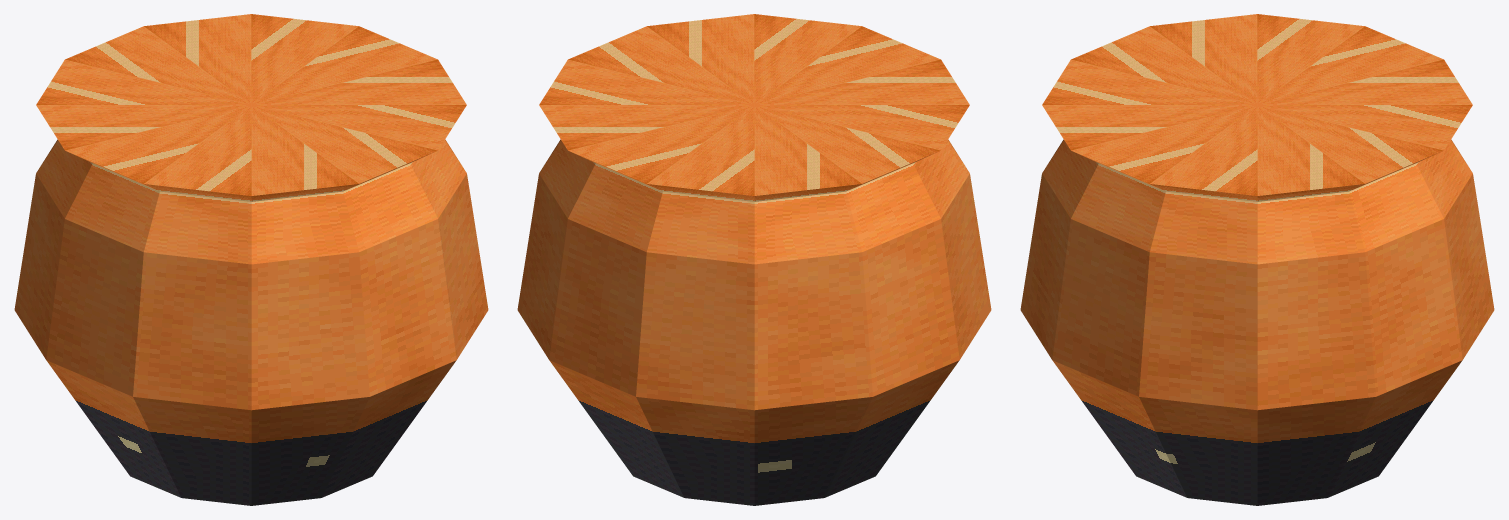
File: braseiro_quente.glb
The picture shows the model from 3 angles, left to right: view 1: azimuth 30°, elevation 25°; view 2: azimuth 150°, elevation 25°; view 3: azimuth 270°, elevation 25°; orthographic projection.
Parts seen in each view (by area): view 1: braseiro_quente; view 2: braseiro_quente; view 3: braseiro_quente.
Boxes of the visible parts, x1,y1,x2,y2 form: braseiro_quente: [14, 14, 488, 505]; braseiro_quente: [517, 14, 991, 505]; braseiro_quente: [1020, 14, 1494, 505].
Size of the model in its own units: 0.88 by 0.7 by 0.88.
Materials: 1 (1 with a texture image).
